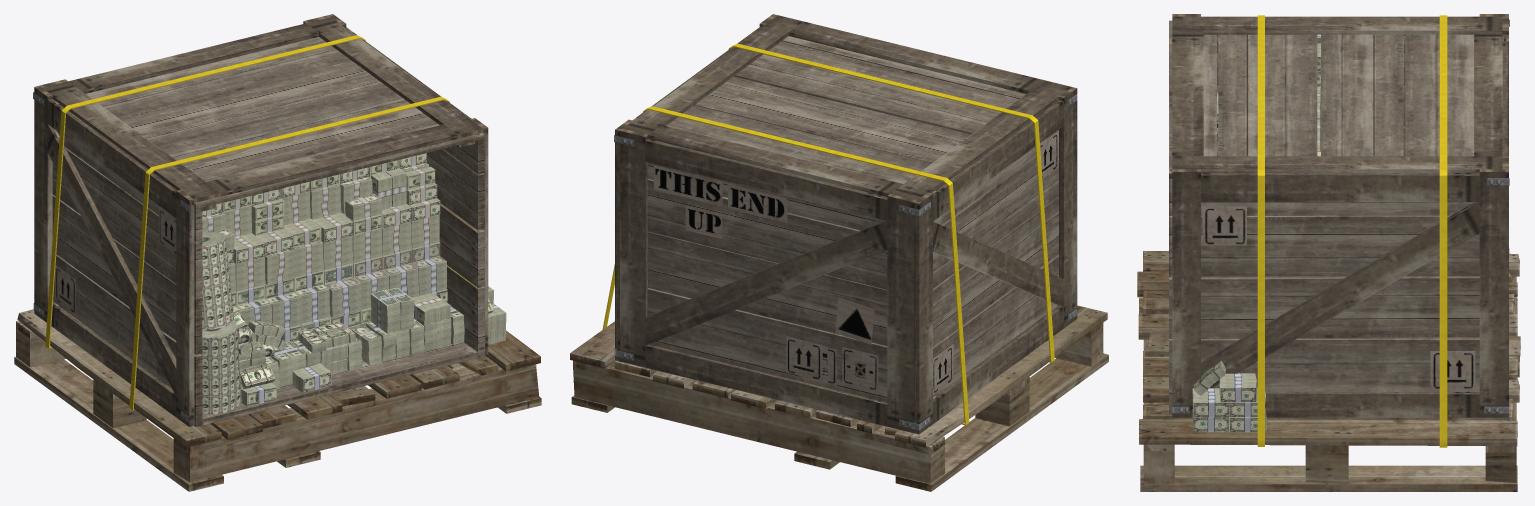
File: money crate.fbx
The picture shows the model from 3 angles, left to right: view 1: azimuth 30°, elevation 25°; view 2: azimuth 150°, elevation 25°; view 3: azimuth 270°, elevation 25°; orthographic projection. The views are drawn at different scales.
Visible parts, largest first — view 1: Prop_Crate_Money_BC; view 2: Prop_Crate_Money_BC; view 3: Prop_Crate_Money_BC.
Part boxes in pixels (bbox=[...]): Prop_Crate_Money_BC: bbox=[14, 14, 541, 491]; Prop_Crate_Money_BC: bbox=[570, 14, 1108, 491]; Prop_Crate_Money_BC: bbox=[1137, 14, 1520, 491].
Size of the model in its own units: 185 by 138 by 159.
